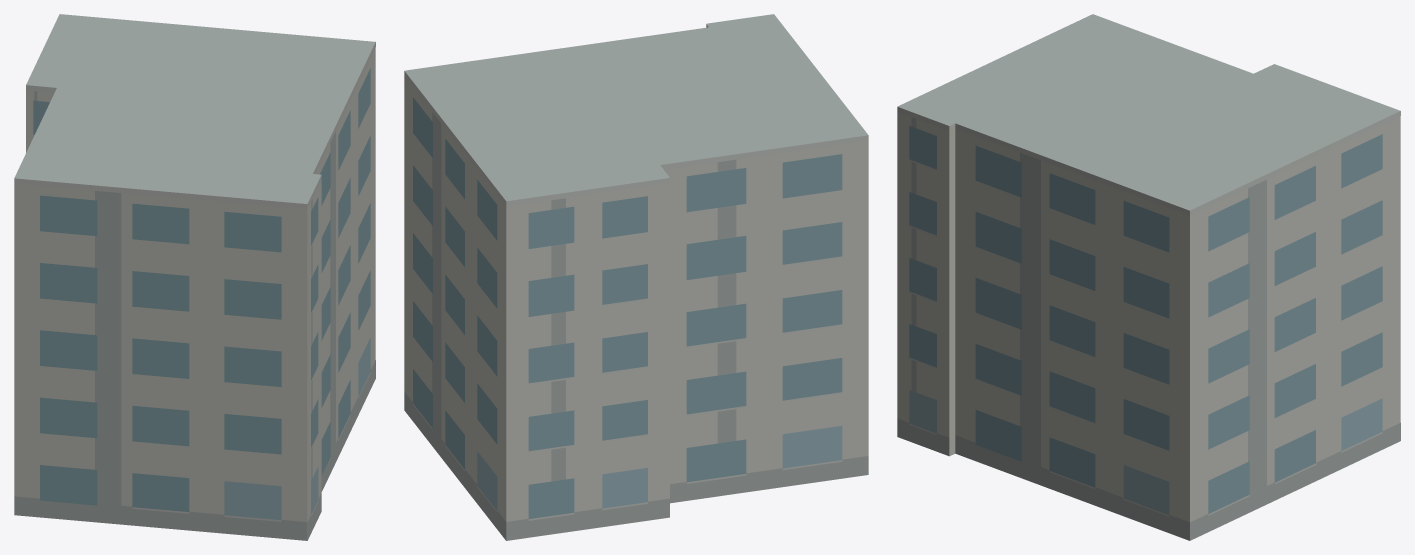
Rendered from survey-upis-32762986.glb.
The picture shows the model from 3 angles, left to right: view 1: azimuth 30°, elevation 25°; view 2: azimuth 150°, elevation 25°; view 3: azimuth 270°, elevation 25°; orthographic projection. The views are drawn at different scales.
Parts seen in each view (by area): view 1: survey-upis-32762986.tmp; view 2: survey-upis-32762986.tmp; view 3: survey-upis-32762986.tmp.
Part boxes in pixels (x1,y1,x2,y2): survey-upis-32762986.tmp: (14,14,375,540); survey-upis-32762986.tmp: (404,14,868,540); survey-upis-32762986.tmp: (897,14,1400,540).
Bounding box in the file's own units: 19.49 × 15.25 × 21.08.
